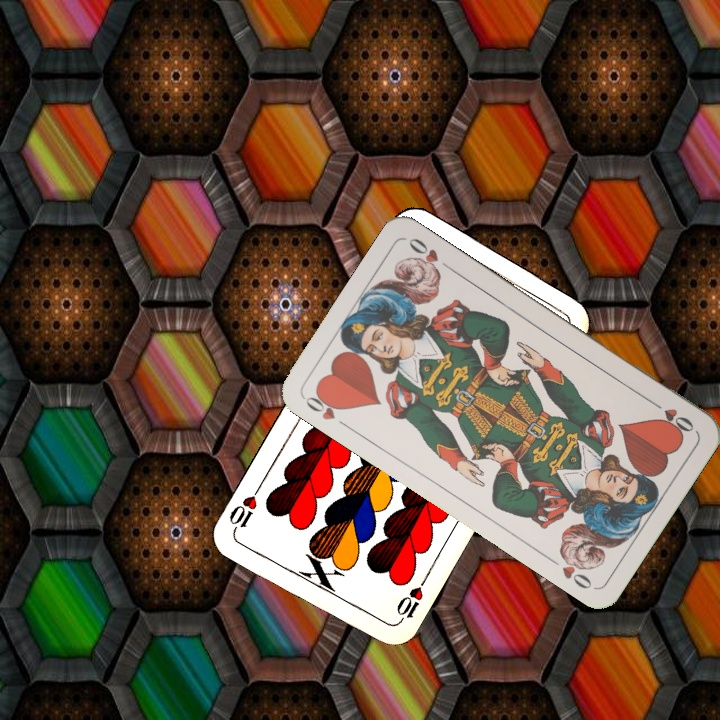H10: (392, 573, 430, 627)
HO: (300, 386, 353, 431), (645, 396, 697, 436)
